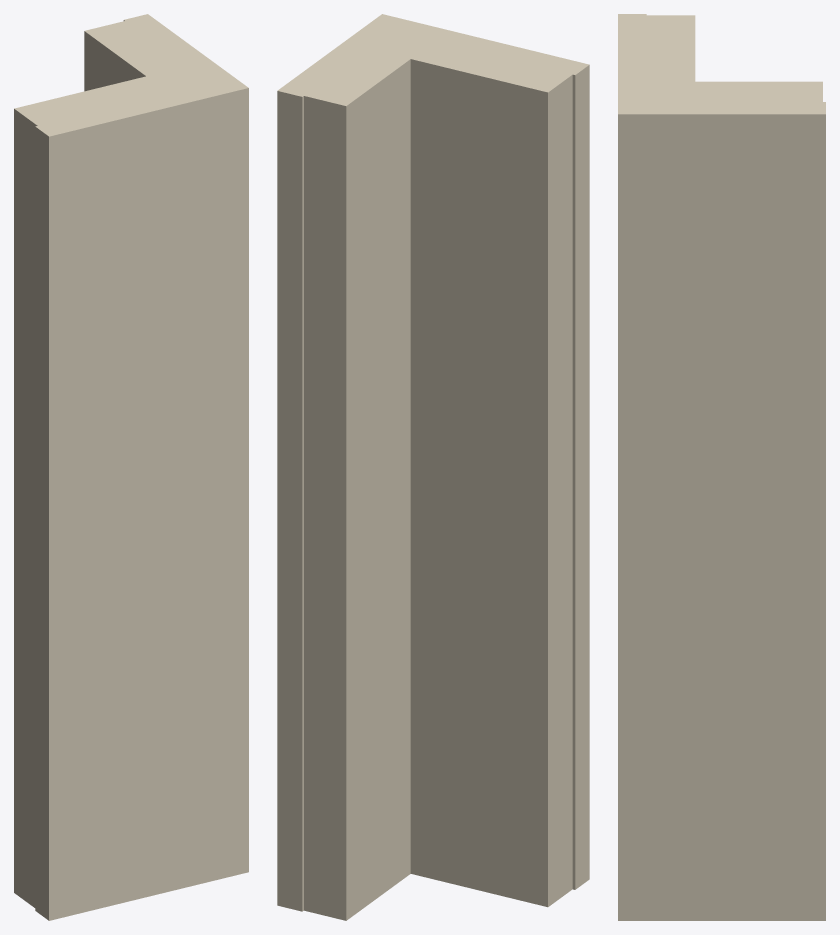
3 views of the same model, side by side, from view 1: azimuth 30°, elevation 25°; view 2: azimuth 150°, elevation 25°; view 3: azimuth 270°, elevation 25° (orthographic). The views are drawn at different scales.
Parts seen in each view (by area): view 1: A-FF-WALL-028; view 2: A-FF-WALL-028; view 3: A-FF-WALL-028.
Boxes of the visible parts, left/top/right/bottom form: A-FF-WALL-028: left=14, top=14, right=248, bottom=920; A-FF-WALL-028: left=277, top=14, right=589, bottom=920; A-FF-WALL-028: left=618, top=14, right=825, bottom=920.
Bounding box in the file's own units: 0.645 × 2.42 × 0.565.
